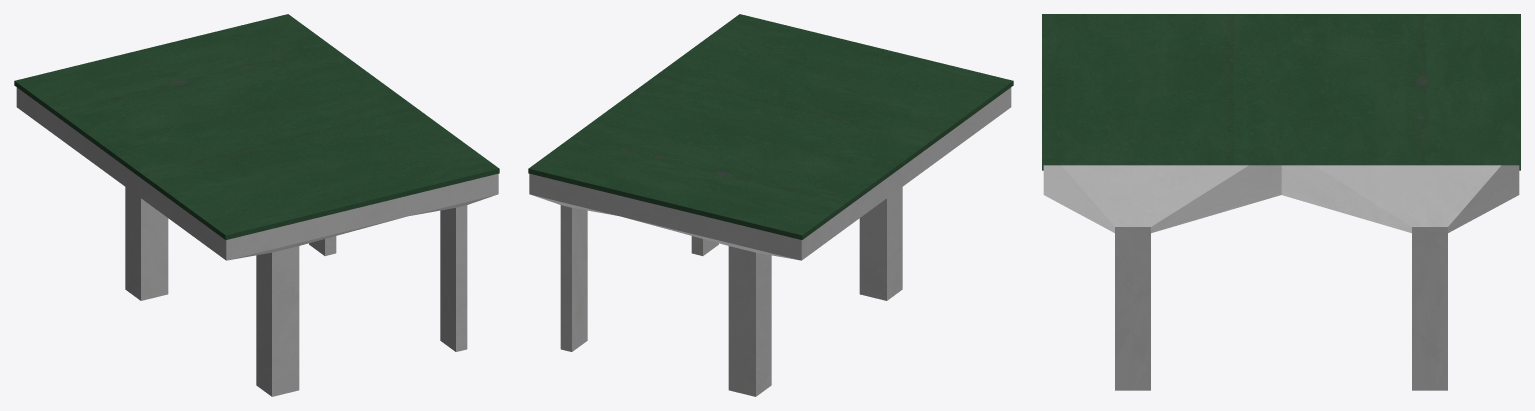
The model's file is SM_Canopy_01.fbx.
The picture shows the model from 3 angles, left to right: view 1: azimuth 30°, elevation 25°; view 2: azimuth 150°, elevation 25°; view 3: azimuth 270°, elevation 25°; orthographic projection. The views are drawn at different scales.
Parts seen in each view (by area): view 1: SM_Canopy_01_LOD0; view 2: SM_Canopy_01_LOD0; view 3: SM_Canopy_01_LOD0.
Part boxes in pixels (bbox=[...]): SM_Canopy_01_LOD0: bbox=[14, 14, 499, 396]; SM_Canopy_01_LOD0: bbox=[528, 14, 1013, 396]; SM_Canopy_01_LOD0: bbox=[1042, 14, 1520, 390].
Bounding box in the file's own units: 603 × 806 × 430.
2 materials, 2 textured.
